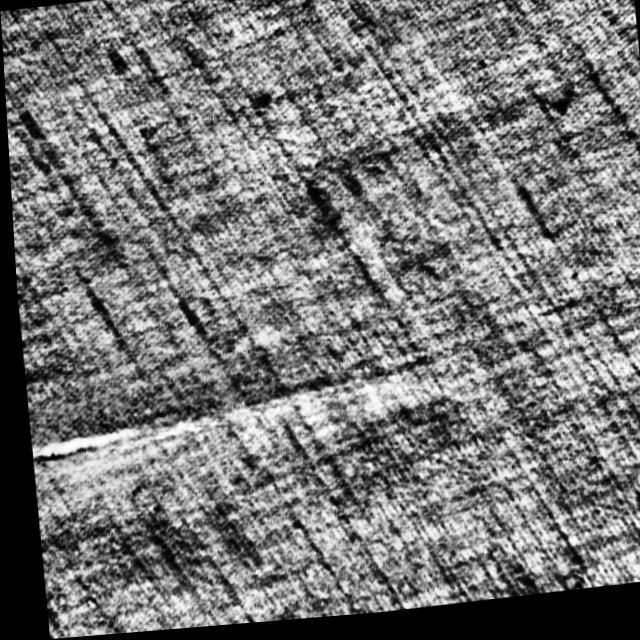Stitch: (20, 356, 438, 467)
